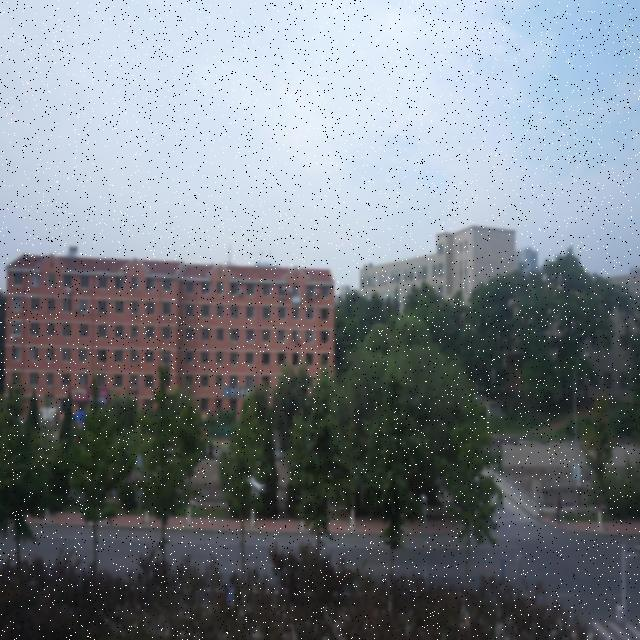UAV: (246, 477, 266, 497)
